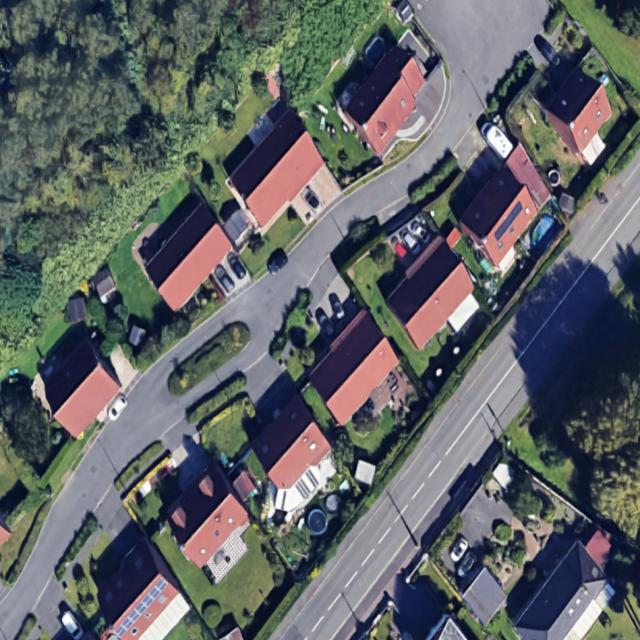maison: (371, 236, 498, 362), (154, 459, 279, 584), (509, 521, 637, 640), (228, 394, 348, 520), (450, 143, 564, 267), (295, 307, 410, 426), (218, 115, 333, 232), (83, 535, 206, 640), (333, 42, 439, 156), (136, 204, 241, 312), (31, 336, 131, 439), (533, 66, 634, 167)
